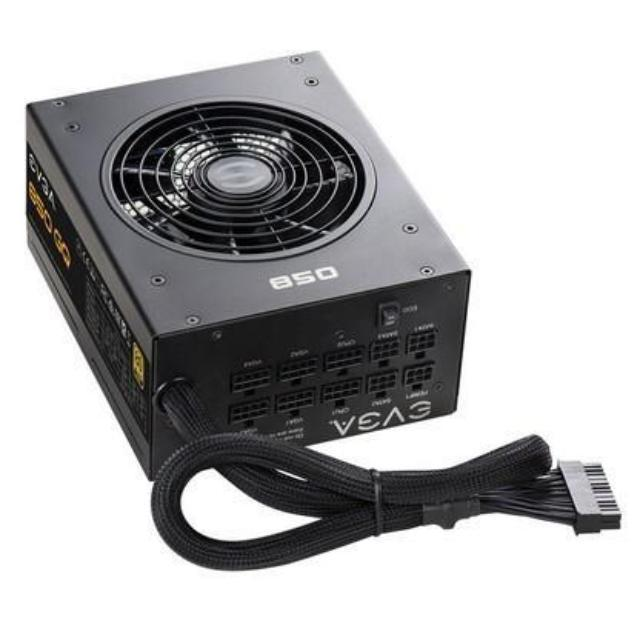PSU: (15, 36, 472, 496)
